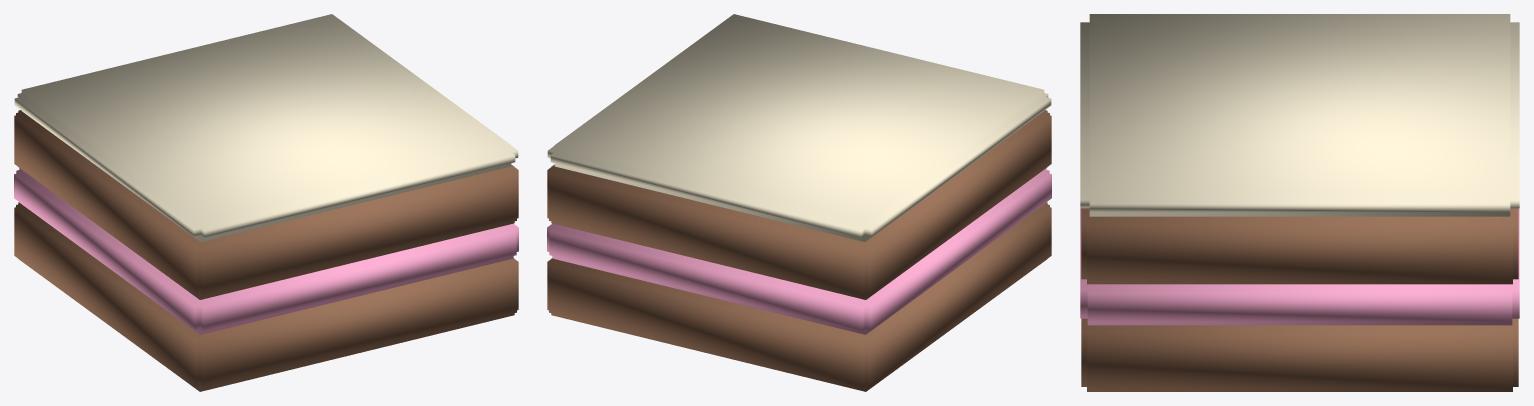
Rendered from candy_block.glb.
3 views of the same model, side by side, from view 1: azimuth 30°, elevation 25°; view 2: azimuth 150°, elevation 25°; view 3: azimuth 270°, elevation 25° (orthographic). The views are drawn at different scales.
Parts seen in each view (by area): view 1: l3, l0, l1; view 2: l3, l0, l1; view 3: l3, l0, l1.
Part boxes in pixels (box(x1,y1,x2,y2)): l3: box(14, 14, 518, 241); l0: box(14, 110, 518, 391); l1: box(14, 168, 518, 334); l3: box(547, 14, 1051, 241); l0: box(547, 110, 1051, 391); l1: box(547, 168, 1051, 334); l3: box(1080, 14, 1519, 216); l0: box(1081, 208, 1518, 391); l1: box(1080, 208, 1519, 325).
Bounding box in the file's own units: 4.8 × 2.4 × 4.8.
